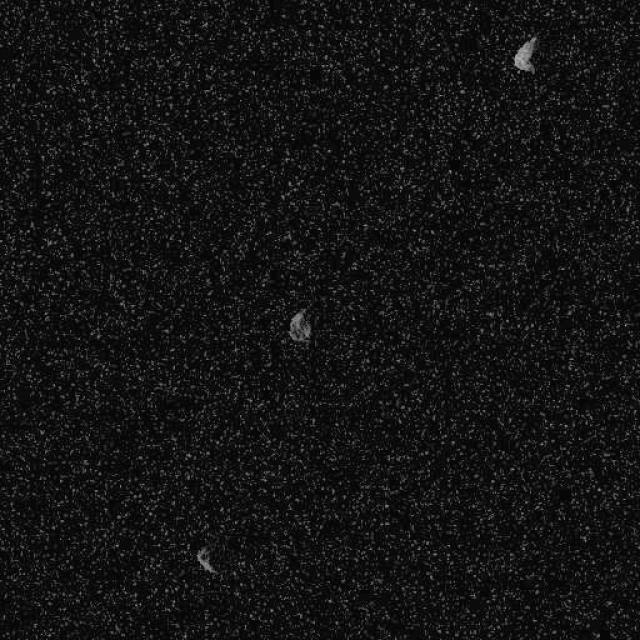D2: (511, 35, 539, 73), (288, 308, 312, 342), (195, 544, 217, 575)
